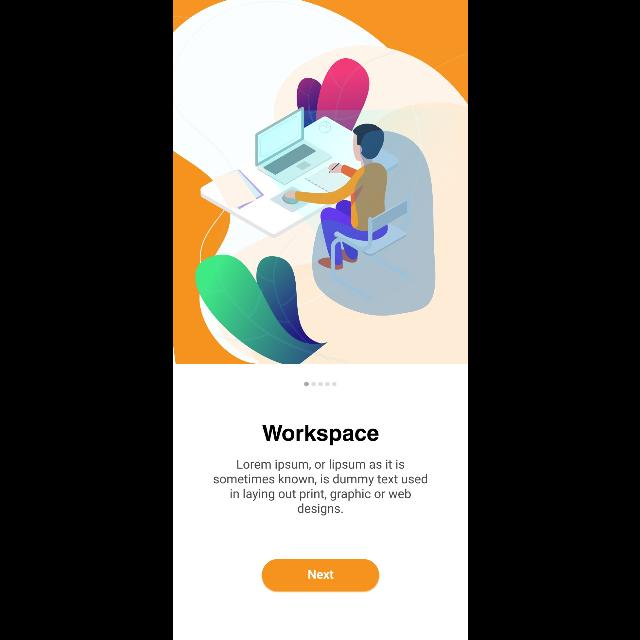image: (172, 0, 466, 364)
pageindicator: (304, 382, 336, 386)
text: (213, 459, 427, 515), (262, 424, 378, 446)
textbutton: (262, 558, 378, 592)
